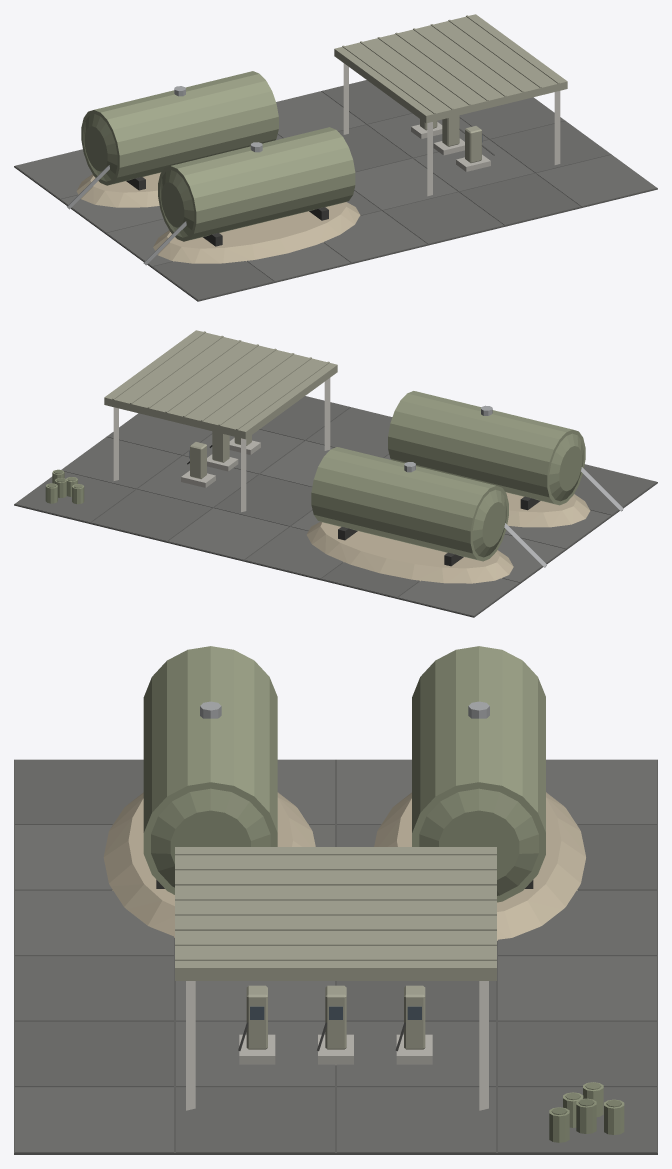
Rendered from b_fuel.glb.
3 views of the same model, one above another, from view 1: azimuth 30°, elevation 25°; view 2: azimuth 150°, elevation 25°; view 3: azimuth 270°, elevation 25° (orthographic). The views are drawn at different scales.
Visible parts, largest first — view 1: hull; view 2: hull; view 3: hull.
Boxes of the visible parts, left/top/right/bottom form: hull: left=14, top=14, right=657, bottom=301; hull: left=14, top=330, right=657, bottom=617; hull: left=14, top=646, right=657, bottom=1154.
Size of the model in its own units: 26.56 by 4.75 by 18.
